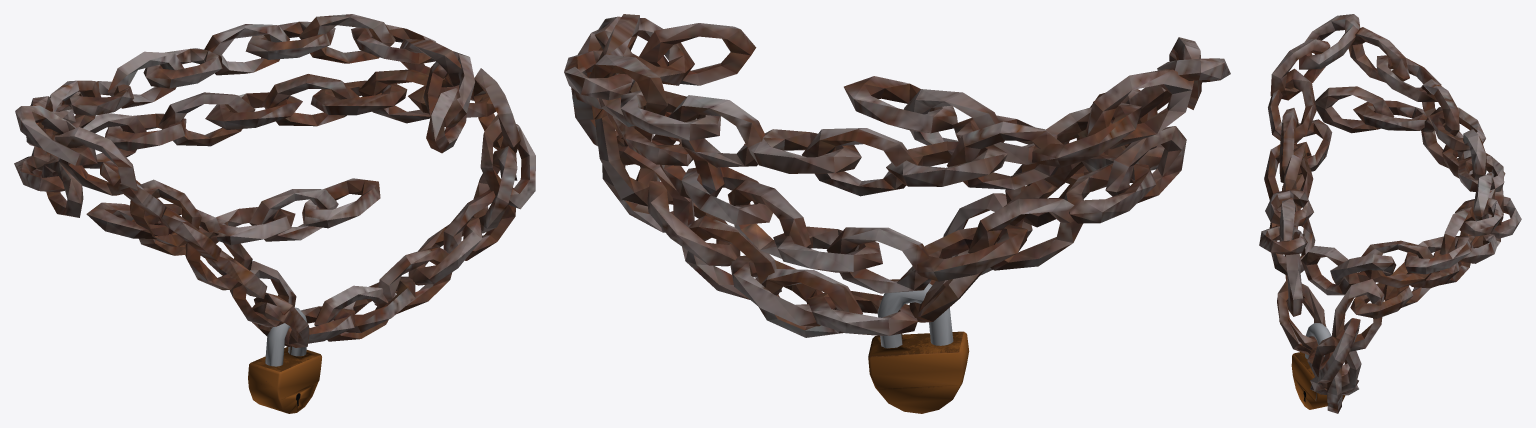
The model's file is chain break.fbx.
3 views of the same model, side by side, from view 1: azimuth 30°, elevation 25°; view 2: azimuth 150°, elevation 25°; view 3: azimuth 270°, elevation 25° (orthographic). The views are drawn at different scales.
Visible parts, largest first — view 1: defaultMaterial, defaultMaterial.001; view 2: defaultMaterial, defaultMaterial.001; view 3: defaultMaterial, defaultMaterial.001.
Boxes of the visible parts, <box> form: defaultMaterial: <box>14,14,535,347</box>; defaultMaterial.001: <box>248,307,321,413</box>; defaultMaterial: <box>564,14,1230,337</box>; defaultMaterial.001: <box>868,283,969,413</box>; defaultMaterial: <box>1259,14,1521,413</box>; defaultMaterial.001: <box>1291,323,1345,409</box>.
Size of the model in its own units: 47.98 by 30.91 by 25.26.
1 material, 1 textured.
